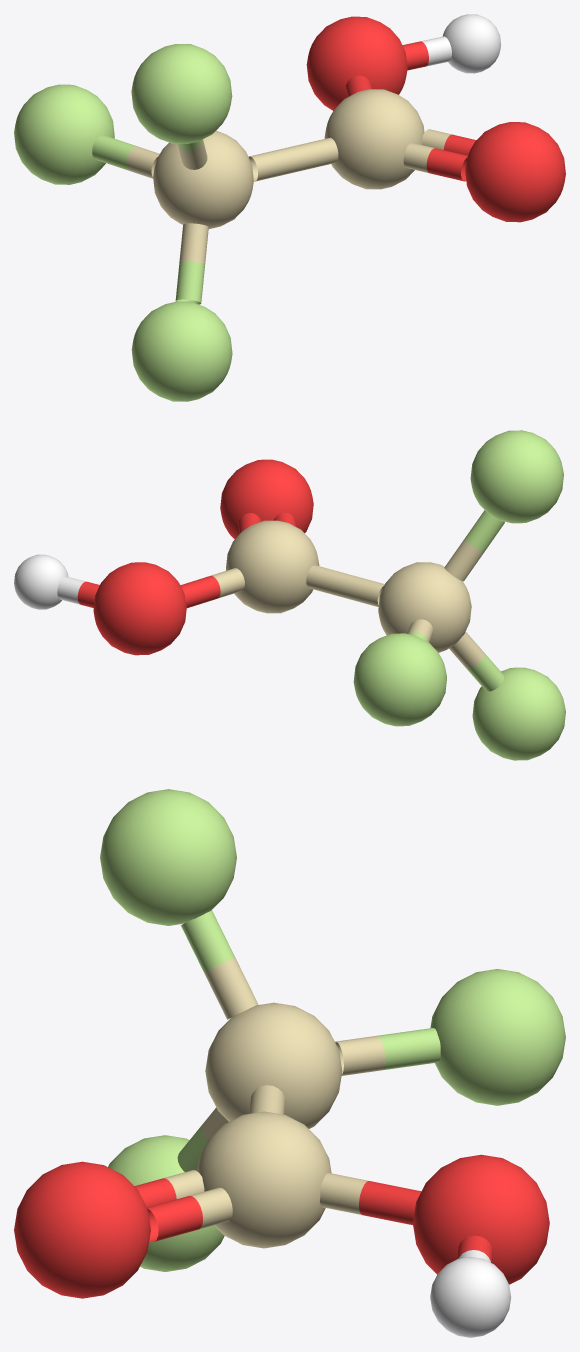
Rendered from TrifluoroaceticAcid.glb.
The picture shows the model from 3 angles, top to bottom: view 1: azimuth 30°, elevation 25°; view 2: azimuth 150°, elevation 25°; view 3: azimuth 270°, elevation 25°; orthographic projection. The views are drawn at different scales.
Parts seen in each view (by area): view 1: atoms, sticks, hydrogen; view 2: atoms, sticks, hydrogen; view 3: atoms, sticks, hydrogen.
Part boxes in pixels (x1,y1,x2,y2): atoms: (14,16,565,401); sticks: (92,36,476,304); hydrogen: (442,14,500,73); atoms: (93,430,565,760); sticks: (57,510,504,691); hydrogen: (14,554,68,609); atoms: (14,789,565,1298); sticks: (134,910,492,1262); hydrogen: (430,1257,511,1337).
Bounding box in the file's own units: 4.2 × 2.96 × 3.14.
